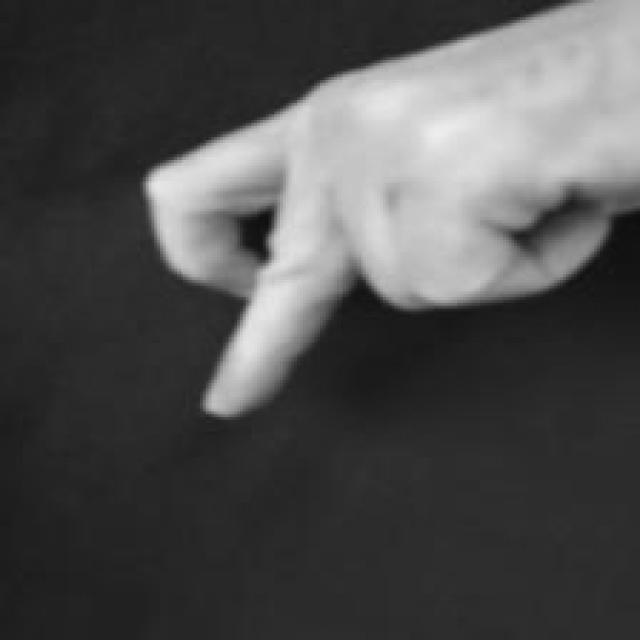P: (131, 0, 640, 437)
